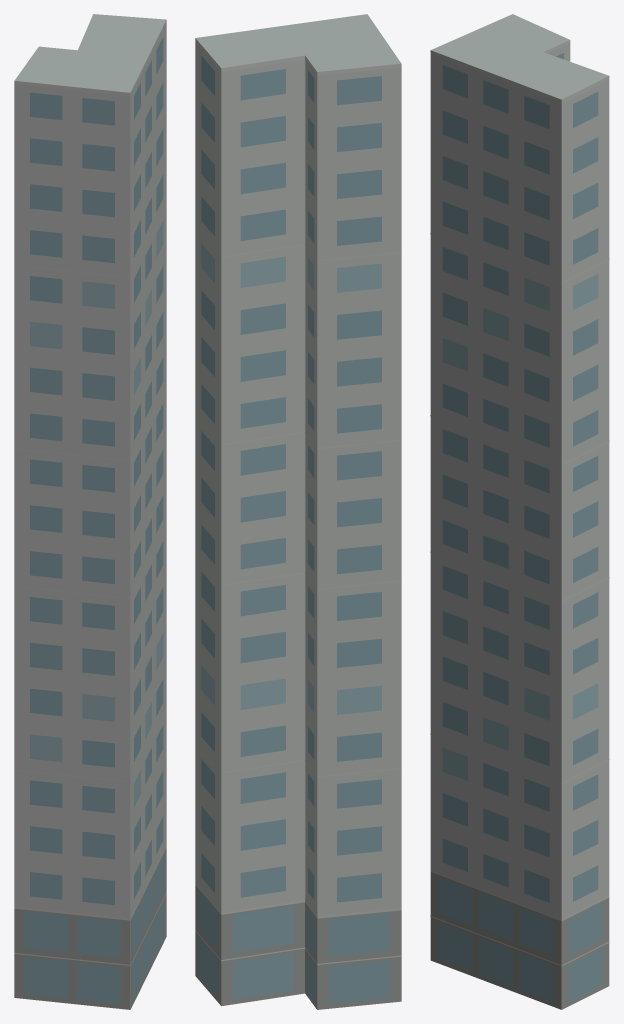
Rendered from survey-upis-32518217.glb.
The picture shows the model from 3 angles, left to right: view 1: azimuth 30°, elevation 25°; view 2: azimuth 150°, elevation 25°; view 3: azimuth 270°, elevation 25°; orthographic projection. The views are drawn at different scales.
Parts seen in each view (by area): view 1: survey-upis-32518217.tmp; view 2: survey-upis-32518217.tmp; view 3: survey-upis-32518217.tmp.
Boxes of the visible parts, box(x1,y1,x2,y2) form: survey-upis-32518217.tmp: box(14, 14, 166, 1009); survey-upis-32518217.tmp: box(195, 14, 401, 1009); survey-upis-32518217.tmp: box(430, 14, 609, 1009).
Bounding box in the file's own units: 12.33 × 61 × 10.88.
